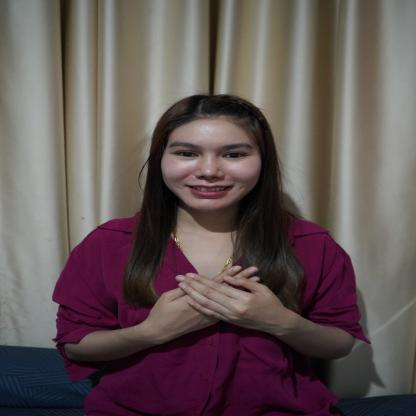Grieve: (132, 261, 306, 357)
